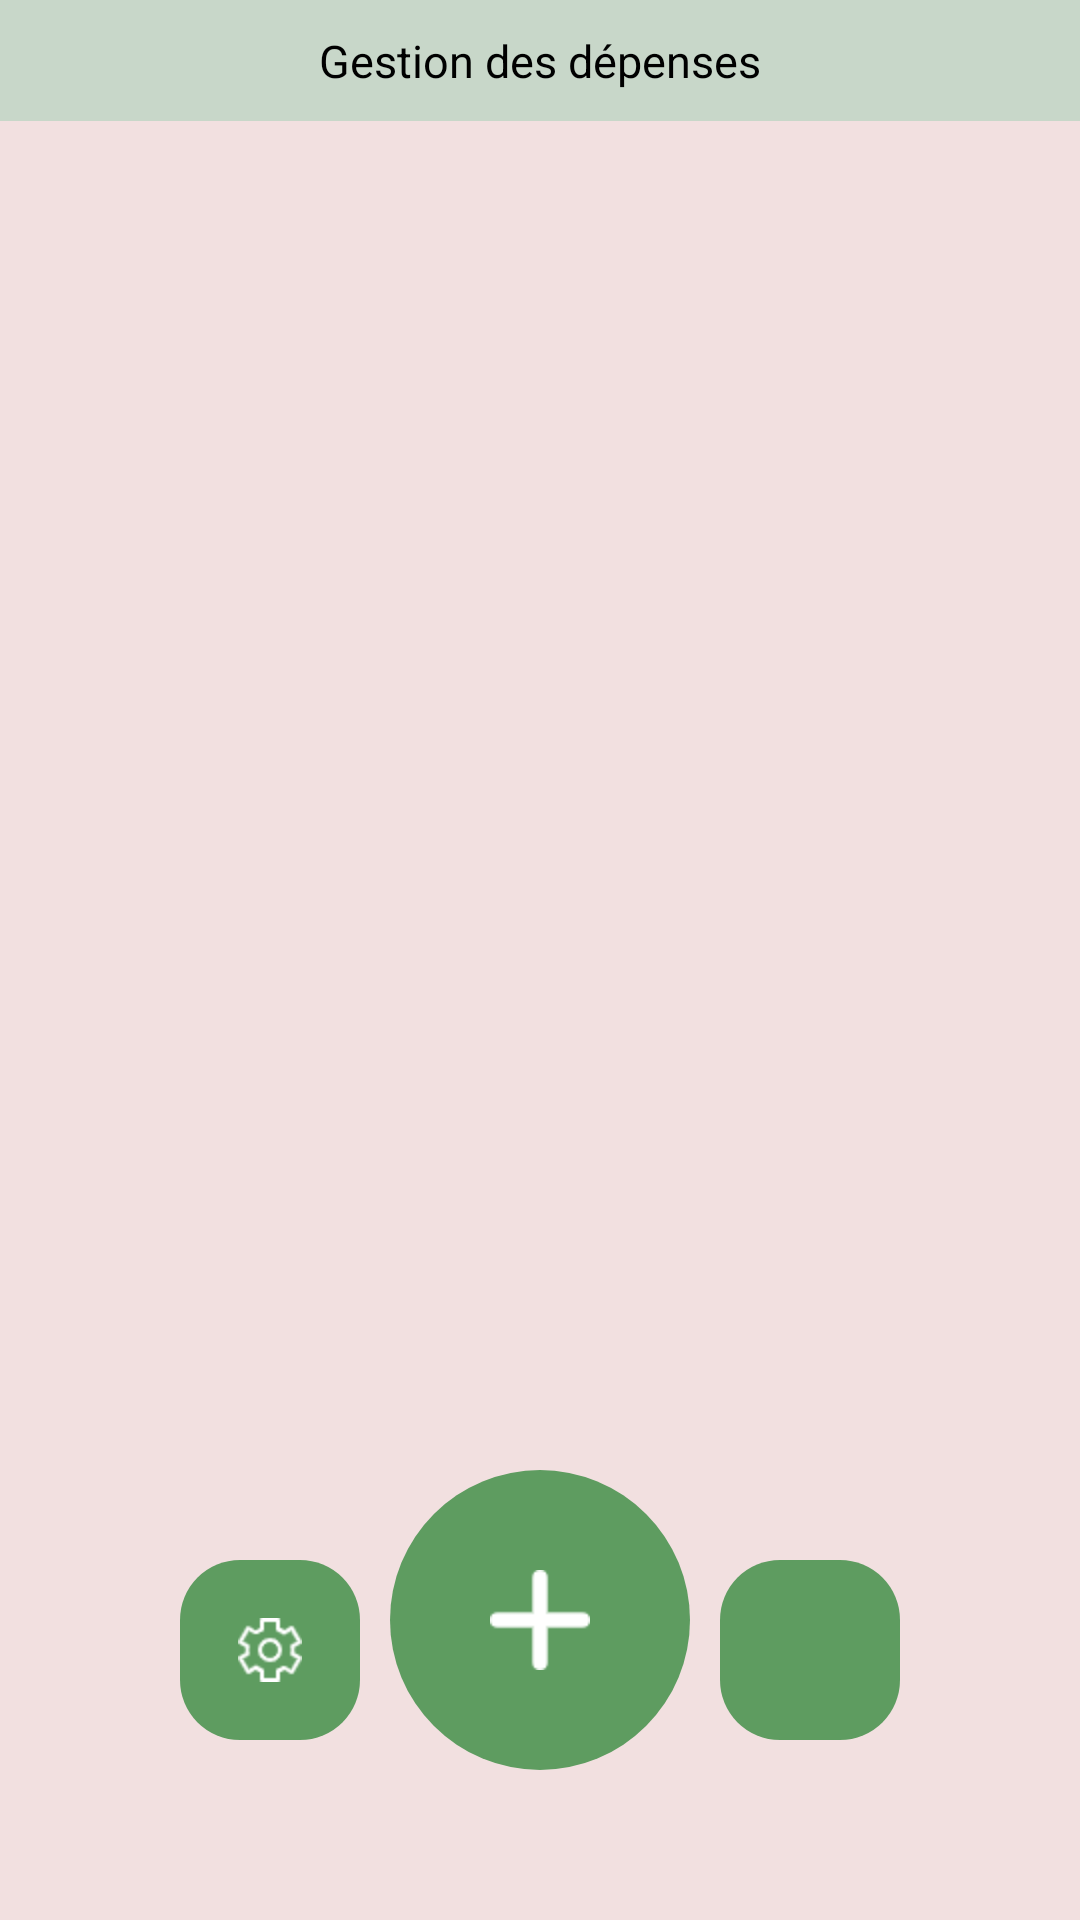

Icon bounding boxes for this 1080 × 1920 phone screenshot, format (x1, y1, x2, y2):
plus: (390, 1470, 690, 1770)
setting: (180, 1560, 360, 1740)
